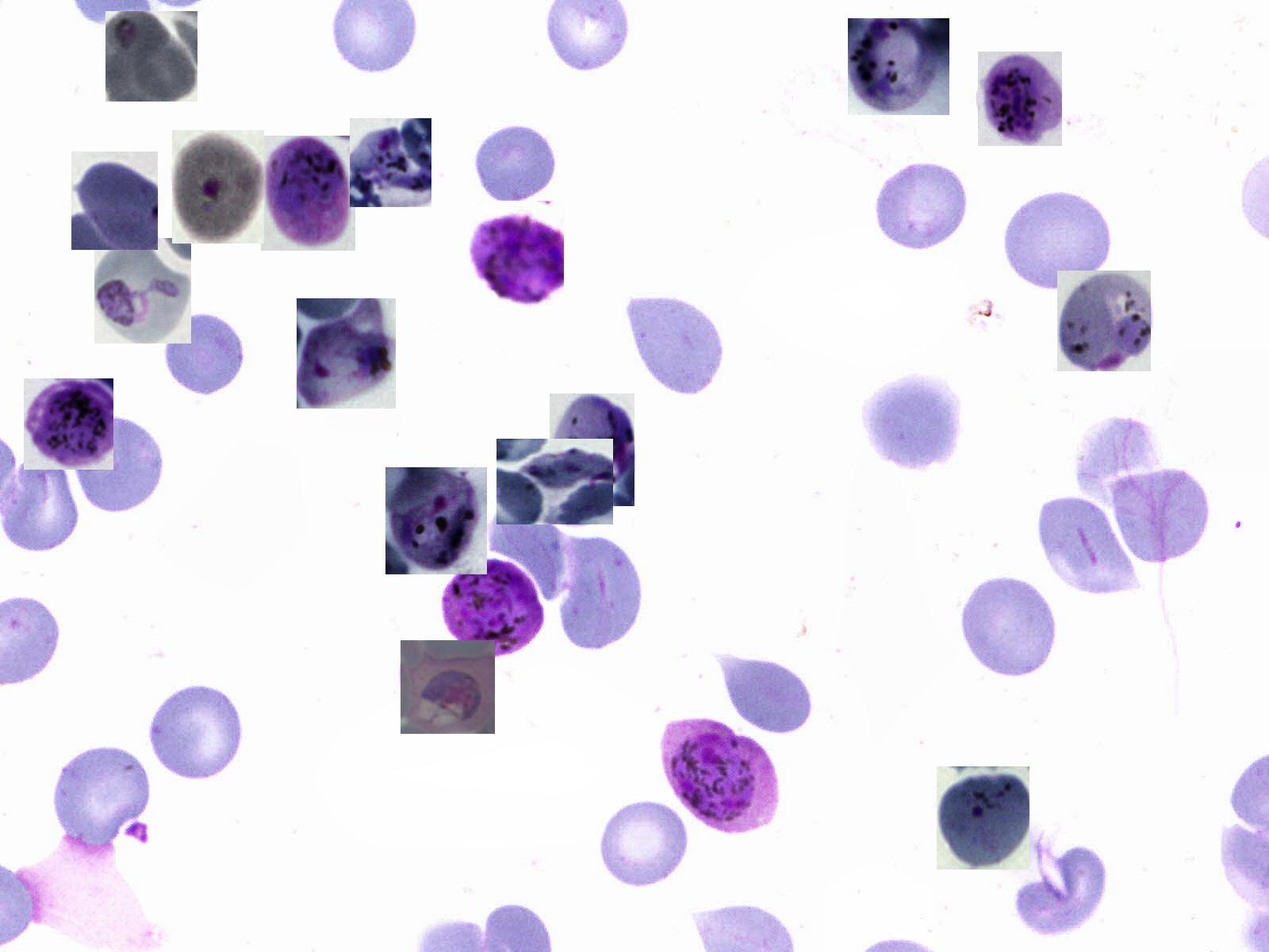Infected: (658, 715, 782, 834), (439, 556, 547, 663), (297, 298, 396, 409), (385, 467, 487, 574), (261, 136, 355, 251), (172, 130, 264, 244), (466, 201, 564, 307), (94, 238, 191, 344), (496, 439, 613, 524), (848, 18, 949, 115), (550, 393, 634, 506), (937, 766, 1029, 869), (1057, 271, 1151, 371), (401, 640, 495, 734), (71, 152, 158, 250), (105, 11, 197, 102), (25, 378, 113, 470), (978, 52, 1062, 146), (350, 118, 431, 207)
Uninfected: (1039, 484, 1150, 597), (1005, 187, 1113, 291), (627, 290, 729, 397), (48, 743, 151, 848), (957, 575, 1064, 676), (67, 412, 164, 516), (863, 370, 960, 473), (558, 534, 643, 651), (1103, 466, 1210, 558), (145, 685, 247, 781), (869, 159, 972, 253), (600, 800, 692, 888), (1018, 848, 1105, 941), (714, 654, 814, 733), (489, 503, 568, 603), (1, 454, 79, 553), (165, 308, 249, 396), (476, 122, 559, 202)
